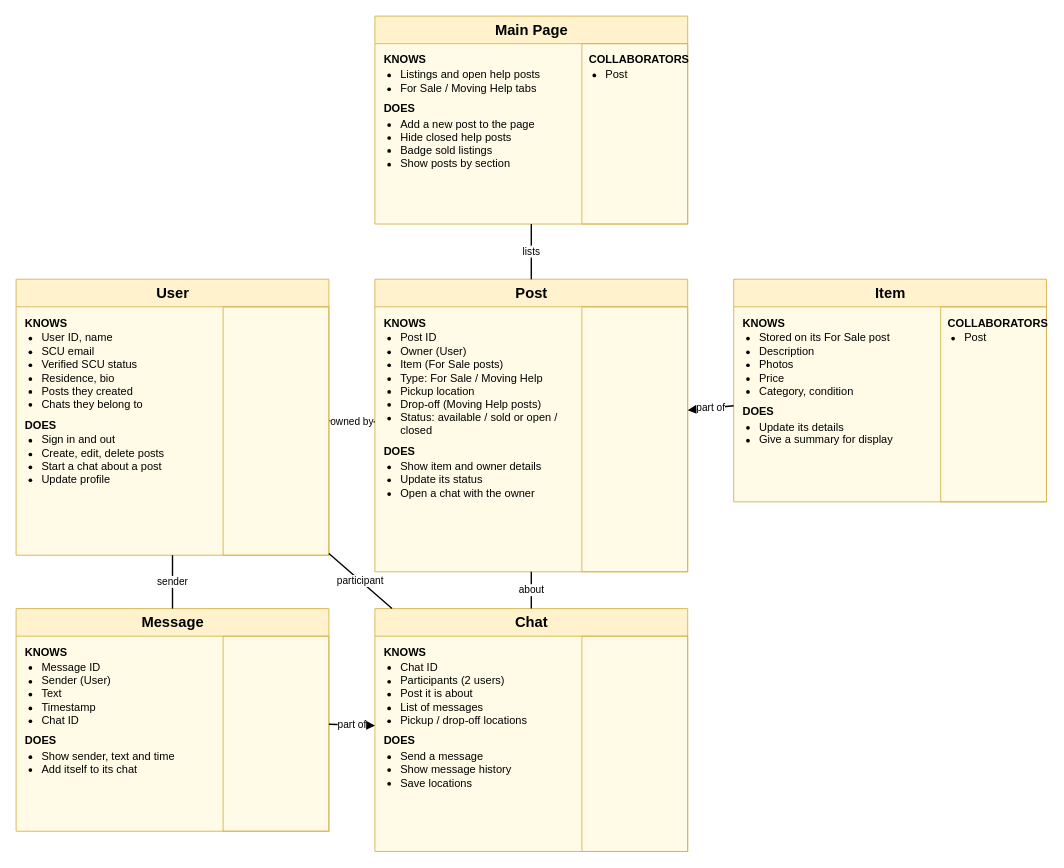
Some shapes in this 1064 by 868 pixel diagram are drawn without their labels. The centre of each missing label's shape, as x and y in pixels:
"COLLABORATORS Post Chat Message" belongs at point (275, 430).
"COLLABORATORS User Chat" belongs at point (275, 733).
"COLLABORATORS User Item Chat Main Page" belongs at point (634, 439).
"COLLABORATORS User Post Message" belongs at point (634, 743).
